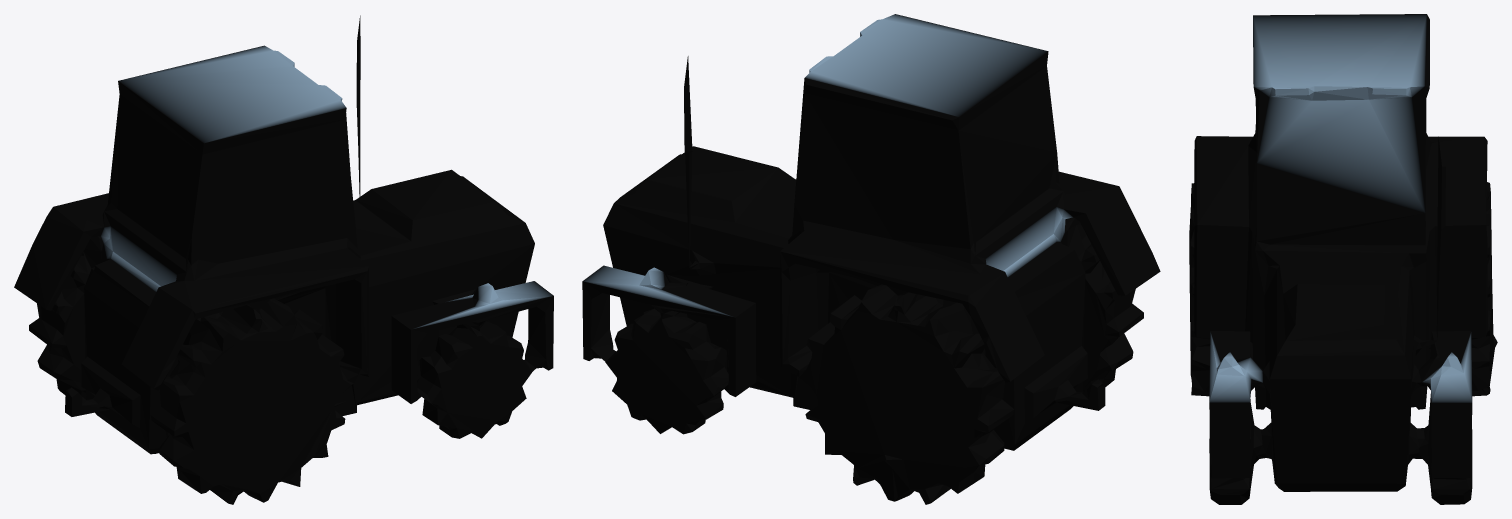
Rendered from Tractors.glb.
3 views of the same model, side by side, from view 1: azimuth 30°, elevation 25°; view 2: azimuth 150°, elevation 25°; view 3: azimuth 270°, elevation 25° (orthographic). The views are drawn at different scales.
Parts seen in each view (by area): view 1: Root; view 2: Root; view 3: Root.
Boxes of the visible parts, box(x1,y1,x2,y2) form: Root: box(14, 15, 553, 504); Root: box(582, 14, 1160, 504); Root: box(1189, 14, 1497, 504).
Size of the model in its own units: 4.33 by 3.37 by 2.61.
